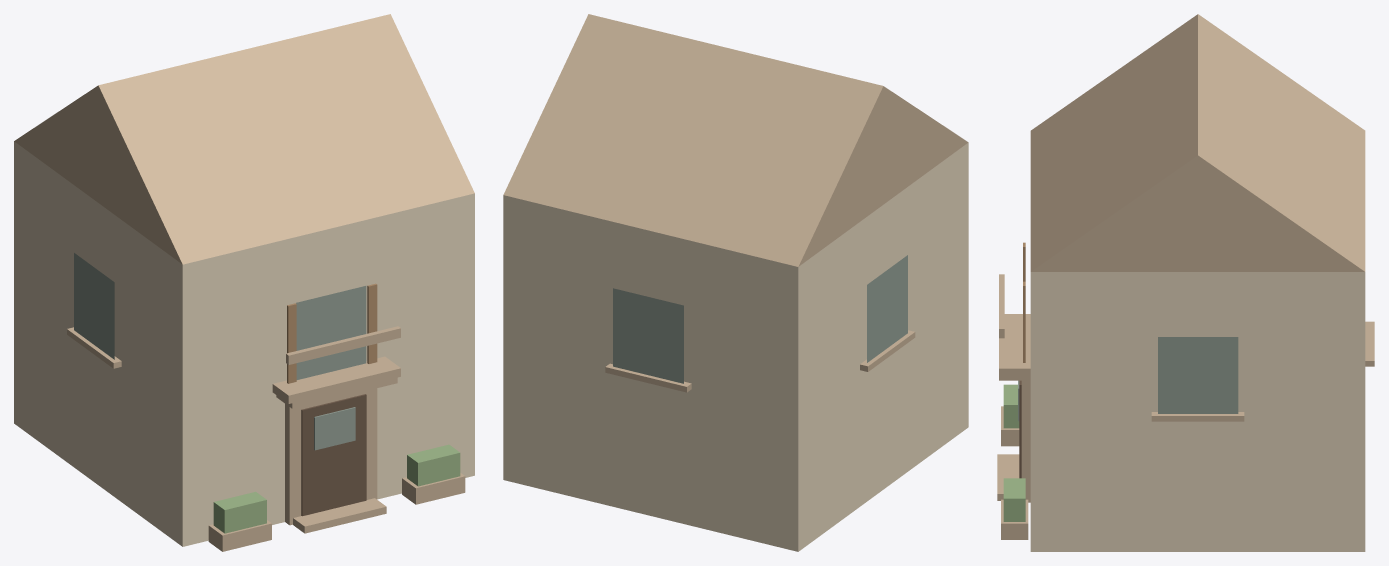
The model's file is residential_1x1_a.glb.
3 views of the same model, side by side, from view 1: azimuth 30°, elevation 25°; view 2: azimuth 150°, elevation 25°; view 3: azimuth 270°, elevation 25° (orthographic).
Visible parts, largest first — view 1: residential_1x1_a_0; view 2: residential_1x1_a_0; view 3: residential_1x1_a_0.
Part boxes in pixels (x1=…): residential_1x1_a_0: x1=14, y1=14, x2=474, y2=551; residential_1x1_a_0: x1=503, y1=14, x2=968, y2=551; residential_1x1_a_0: x1=997, y1=14, x2=1374, y2=551.
Bounding box in the file's own units: 6.86 × 8.5 × 7.33.
